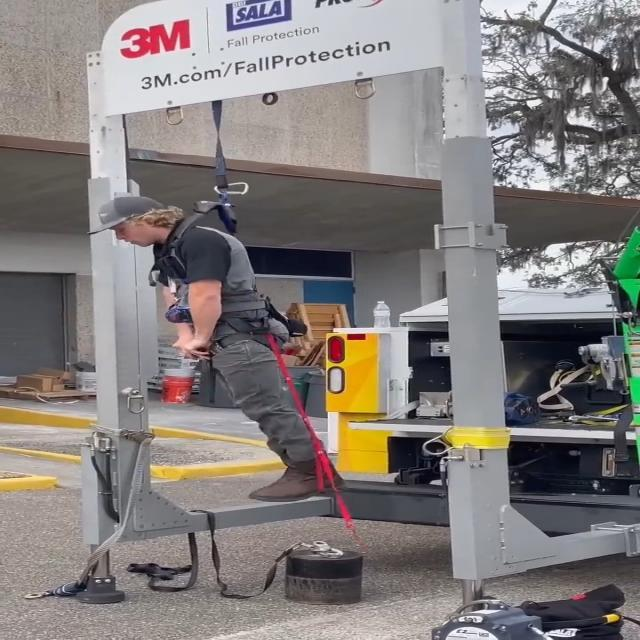belt: (148, 180, 314, 364)
